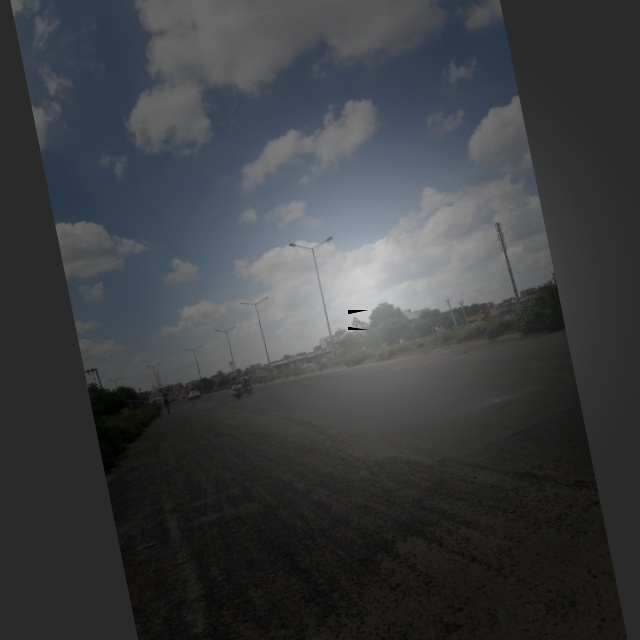Left_Hand_Curve: (348, 310, 369, 330)
